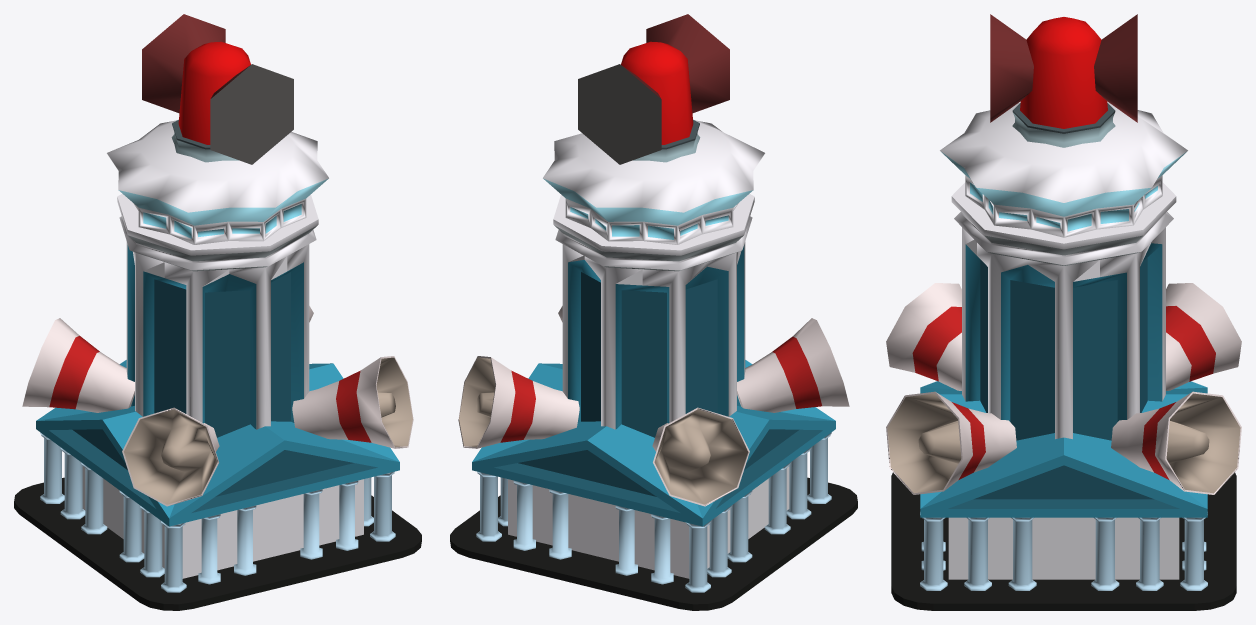
Rendered from Sirine_Building.glb.
3 views of the same model, side by side, from view 1: azimuth 30°, elevation 25°; view 2: azimuth 150°, elevation 25°; view 3: azimuth 270°, elevation 25° (orthographic). The views are drawn at different scales.
Visible parts, largest first — view 1: Plane047, Cube072; view 2: Plane047, Cube072; view 3: Plane047, Cube072.
Part boxes in pixels (bbox=[...]): Plane047: bbox=[14, 41, 421, 610]; Cube072: bbox=[142, 14, 293, 164]; Plane047: bbox=[450, 41, 857, 610]; Cube072: bbox=[578, 14, 729, 164]; Plane047: bbox=[886, 17, 1241, 610]; Cube072: bbox=[990, 14, 1137, 122].
Size of the model in its own units: 4 by 6.5 by 4.
2 materials, 2 textured.
